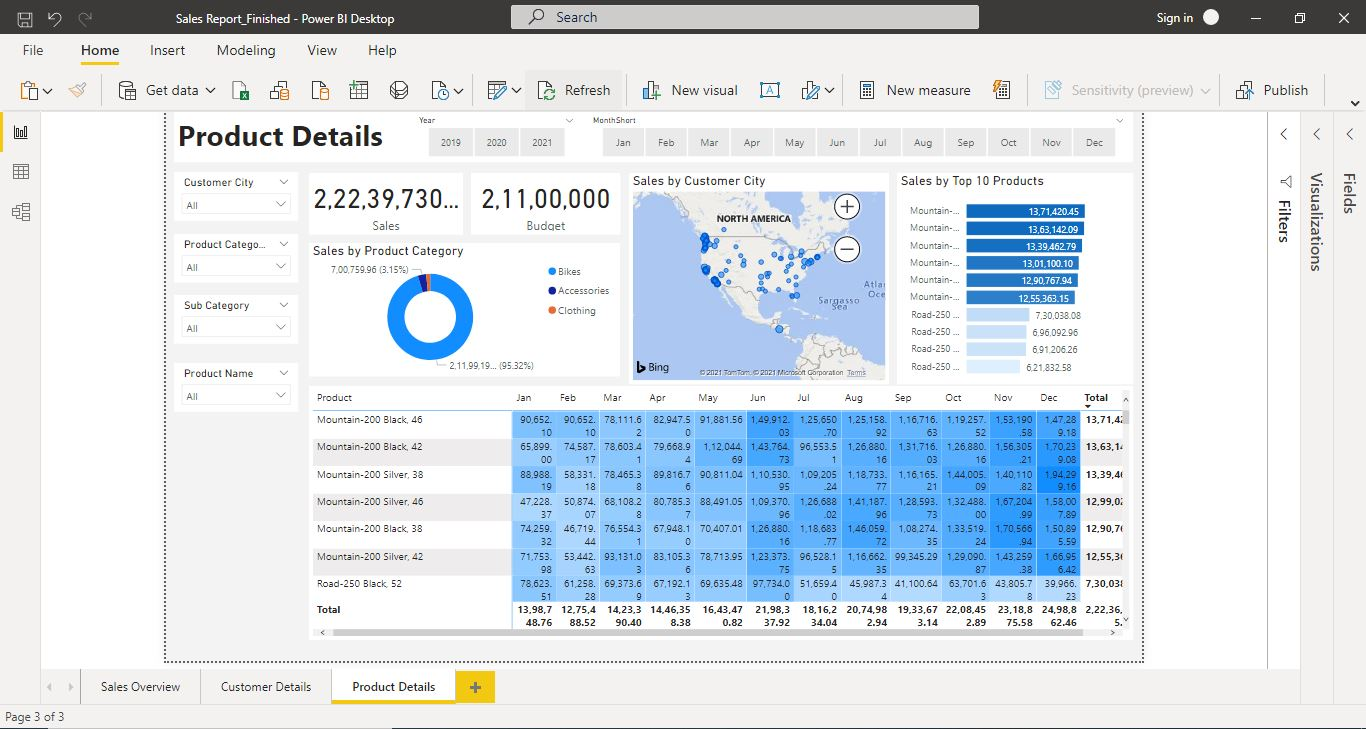

This screenshot's page, from the dashboard's own definition file:
{"tool":"powerbi","page":{"name":"Product Details","canvas":[1280,720],"ordinal":2},"visuals":[{"type":"textbox","box":[10.1,0,1258.2,65.5],"z":0},{"type":"slicer","fields":{"Values":["Customers.Customer City"]},"box":[10.1,79,162.9,63.8],"z":1000},{"type":"slicer","fields":{"Values":["Products.Sub Category"]},"box":[10.1,240.2,162.9,63.8],"z":2000},{"type":"slicer","fields":{"Values":["Products.Product Category"]},"box":[10.1,159.6,162.9,63.8],"z":3000},{"type":"slicer","fields":{"Values":["Products.Product Name"]},"box":[10.1,329.2,162.9,63.8],"z":4000},{"type":"slicer","fields":{"Values":["Calendar.Year"]},"box":[318.9,0,228,64.9],"z":5000},{"type":"slicer","fields":{"Values":["Calendar.MonthShort"]},"box":[546.9,0,721.4,64.9],"z":6000},{"type":"map","fields":{"Category":["Customers.Customer City"],"Size":["Key Measures.Sales"]},"box":[607.5,79.4,340.5,277],"z":8000},{"type":"pivotTable","fields":{"Rows":["Products.Product Name"],"Columns":["Calendar.MonthShort"],"Values":["Key Measures.Sales"]},"box":[187.6,359.3,1080.7,333.3],"z":9000},{"type":"card","fields":{"Values":["Key Measures.Sales"]},"box":[187.6,79.4,202,80.8],"z":10000},{"type":"card","fields":{"Values":["Key Measures.Total Budget"]},"box":[399.7,79.4,196.2,80.8],"z":11000},{"type":"clusteredBarChart","title":"Sales by Top 10 Products","fields":{"Y":["Key Measures.Sales"],"Category":["Products.Product Name"]},"box":[958.1,79.4,310.2,277],"z":12000},{"type":"donutChart","fields":{"Y":["Key Measures.Sales"],"Category":["Products.Product Category"]},"box":[187.6,171.7,408.3,174.6],"z":12001}]}

Visuals, with their boxes on the page's 1280x720 design canvas (x1, y1, x2, y2). These are canvas units, not pixel positions in the 1366x729 screenshot, which may show the page scaled, cropped or inside an application window:
textbox: [10,0,1268,66]
slicer - Customers.Customer City: [10,79,173,143]
slicer - Products.Sub Category: [10,240,173,304]
slicer - Products.Product Category: [10,160,173,223]
slicer - Products.Product Name: [10,329,173,393]
slicer - Calendar.Year: [319,0,547,65]
slicer - Calendar.MonthShort: [547,0,1268,65]
map - Customers.Customer City x Key Measures.Sales: [608,79,948,356]
pivotTable - Products.Product Name x Calendar.MonthShort: [188,359,1268,693]
card - Key Measures.Sales: [188,79,390,160]
card - Key Measures.Total Budget: [400,79,596,160]
"Sales by Top 10 Products" clusteredBarChart: [958,79,1268,356]
donutChart - Key Measures.Sales x Products.Product Category: [188,172,596,346]
